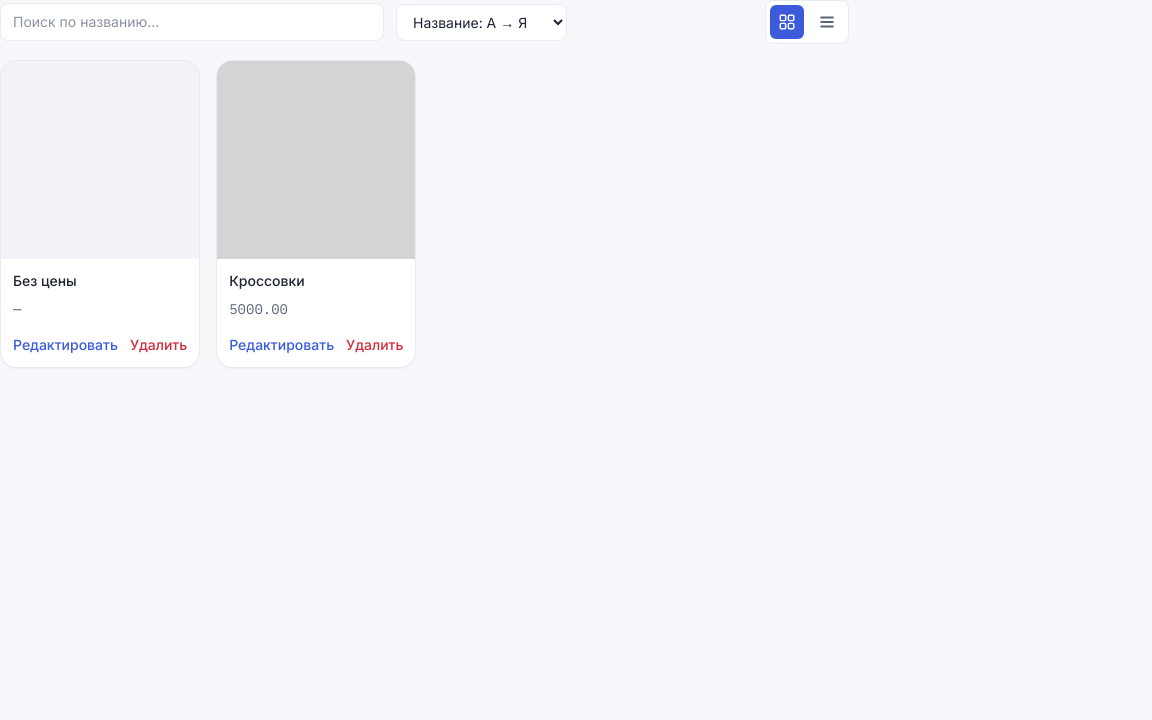
Test: shows an error and keeps the row when deletion fails
Click the button "Удалить" below "Без цены" at (159, 345), box x1=130 y1=335 x2=187 y2=355
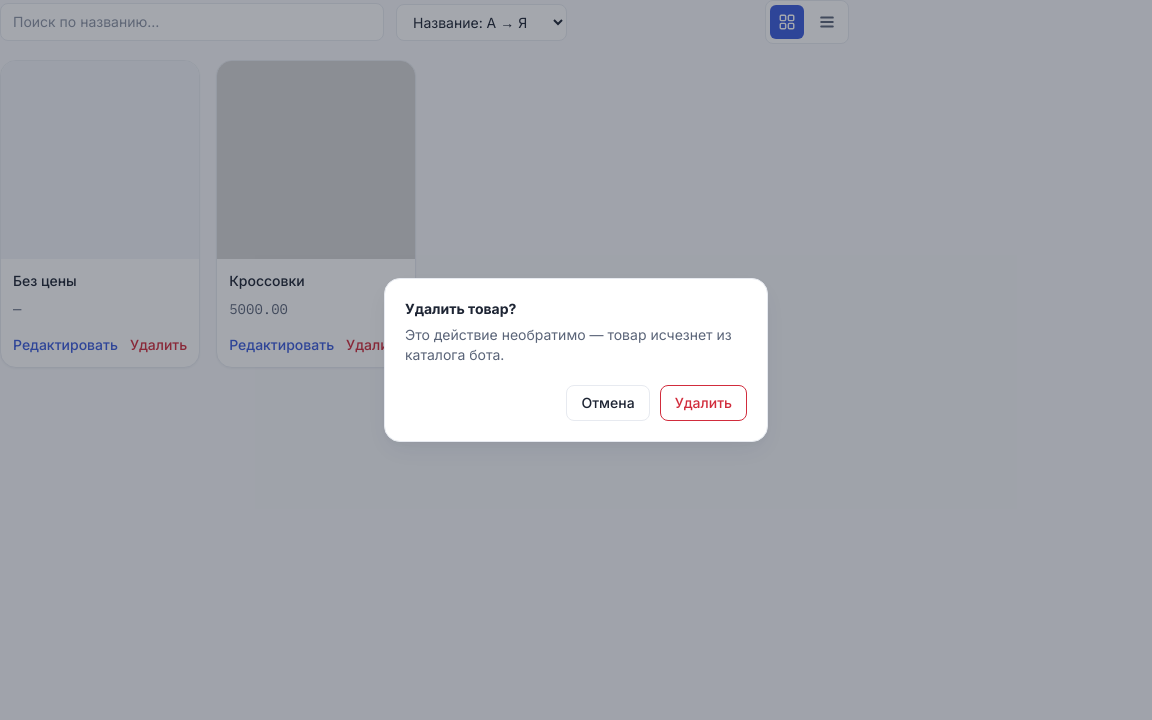
Click the button "Удалить" at (703, 403), box x1=660 y1=385 x2=747 y2=421
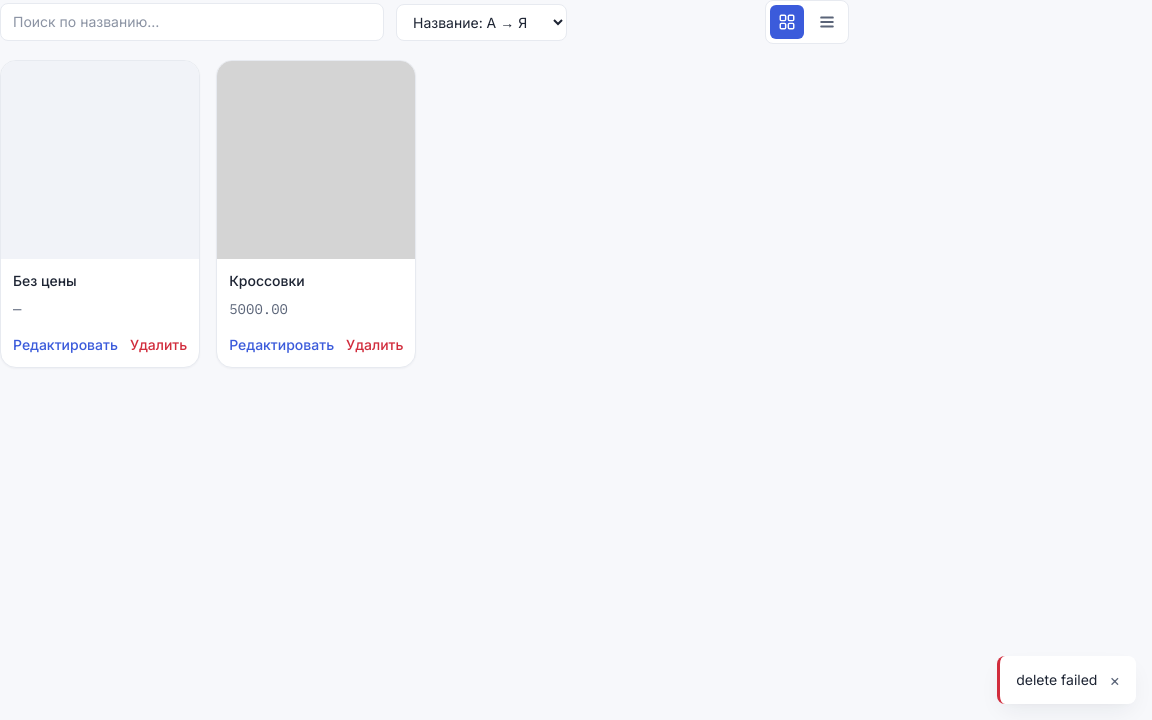
Check: the text "Кроссовки" is shown, box x1=229 y1=272 x2=305 y2=289
Check: the message shows "delete failed", box x1=1016 y1=671 x2=1097 y2=688
